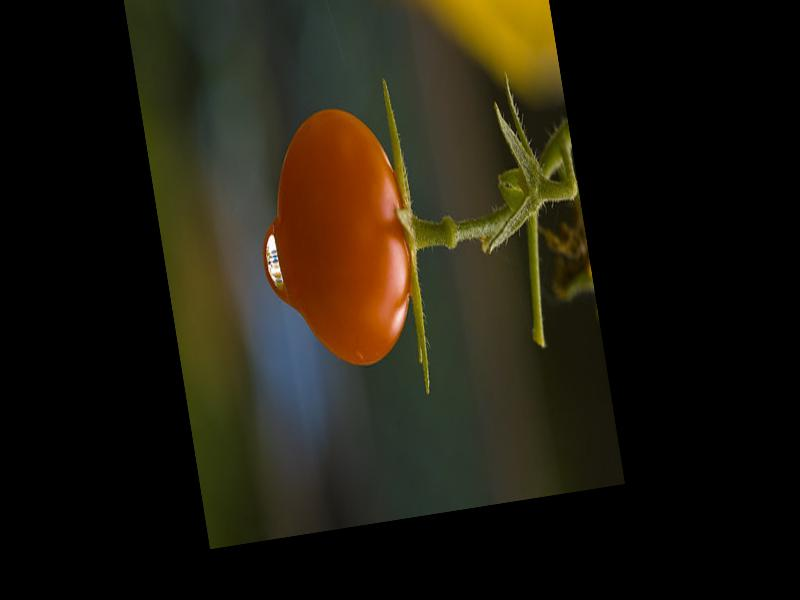Tomato: (261, 101, 427, 378)
